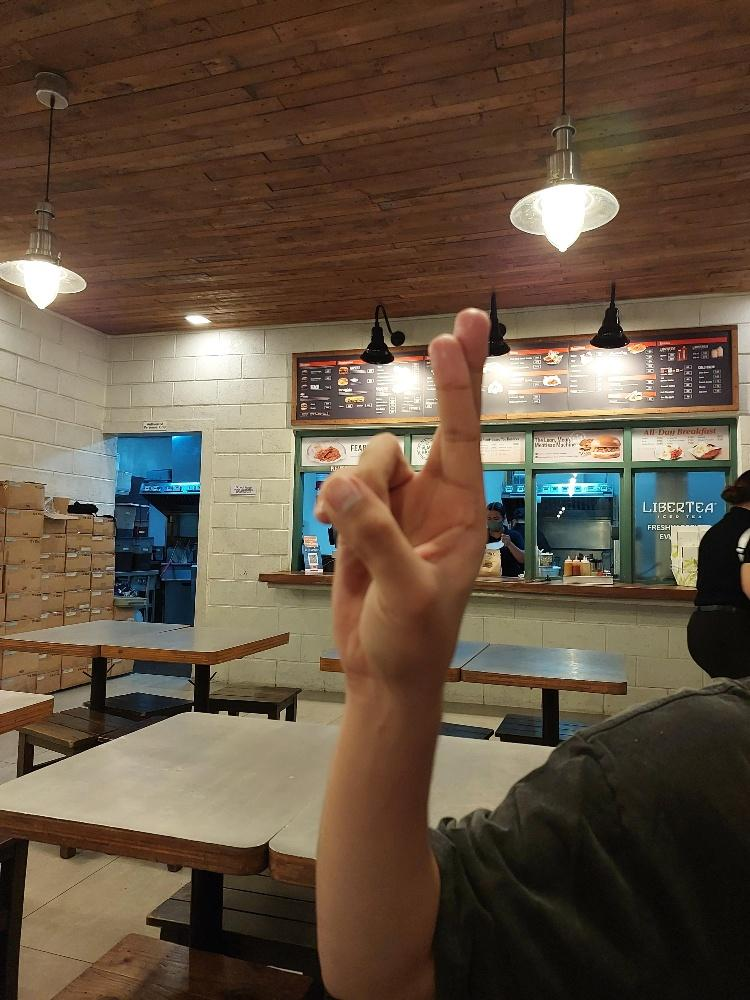r: (310, 303, 489, 676)
